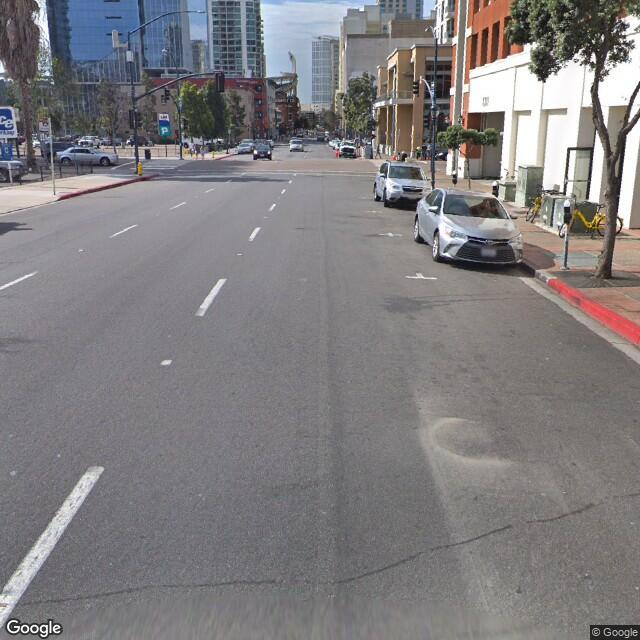road line: (1, 425, 122, 603), (90, 195, 189, 240), (183, 275, 240, 329)
